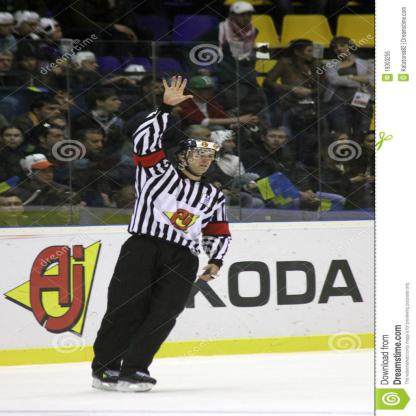face: (186, 150, 212, 173), (2, 197, 23, 218), (83, 135, 105, 154), (4, 129, 24, 148), (46, 130, 66, 148), (266, 132, 286, 149), (33, 168, 54, 184), (41, 106, 62, 122), (55, 94, 75, 110), (196, 131, 214, 148), (81, 59, 100, 74), (104, 97, 122, 112), (298, 46, 314, 62), (150, 84, 166, 100), (235, 12, 252, 26), (199, 85, 216, 99), (21, 23, 37, 37), (118, 166, 134, 179), (335, 45, 350, 58), (21, 59, 37, 71), (2, 56, 14, 72), (337, 136, 350, 150), (365, 136, 376, 152), (222, 140, 236, 152), (51, 27, 63, 41), (4, 24, 14, 36)
